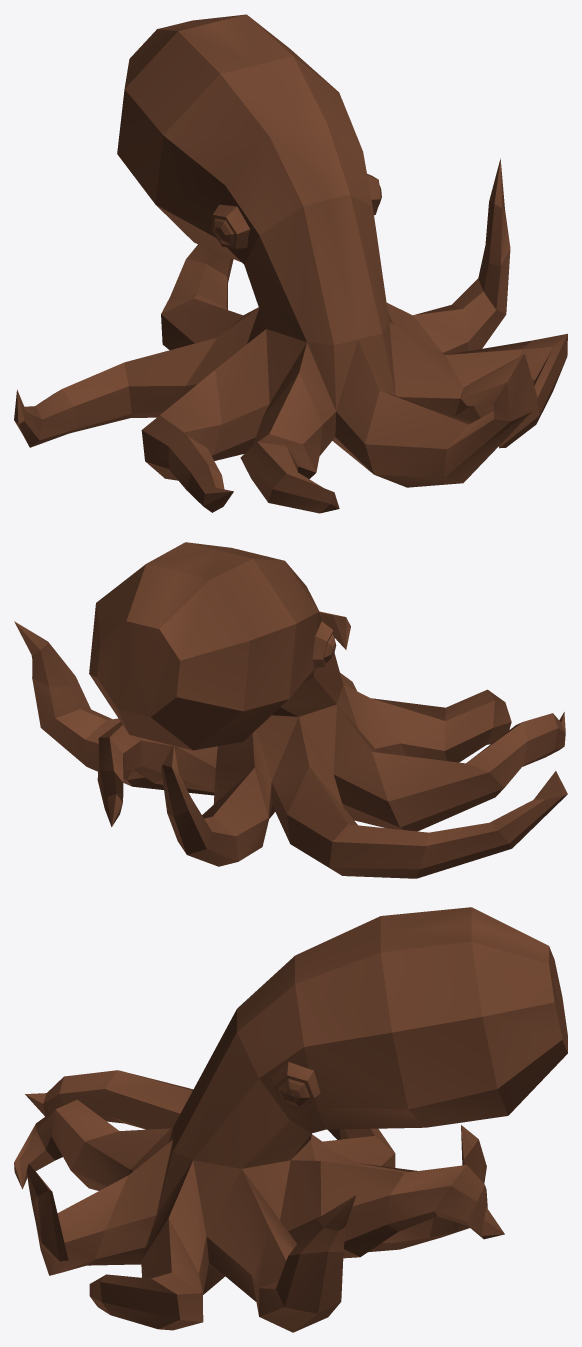
Rendered from octopus.glb.
3 renders of one model, top to bottom at view 1: azimuth 30°, elevation 25°; view 2: azimuth 150°, elevation 25°; view 3: azimuth 270°, elevation 25°, orthographic. The views are drawn at different scales.
Visible parts, largest first — view 1: octopus; view 2: octopus; view 3: octopus.
Part boxes in pixels (box(x1,y1,x2,y2)): octopus: box(14, 14, 567, 513); octopus: box(14, 542, 567, 878); octopus: box(14, 907, 567, 1332).
Size of the model in its own units: 1.46 by 0.8523 by 1.27.
